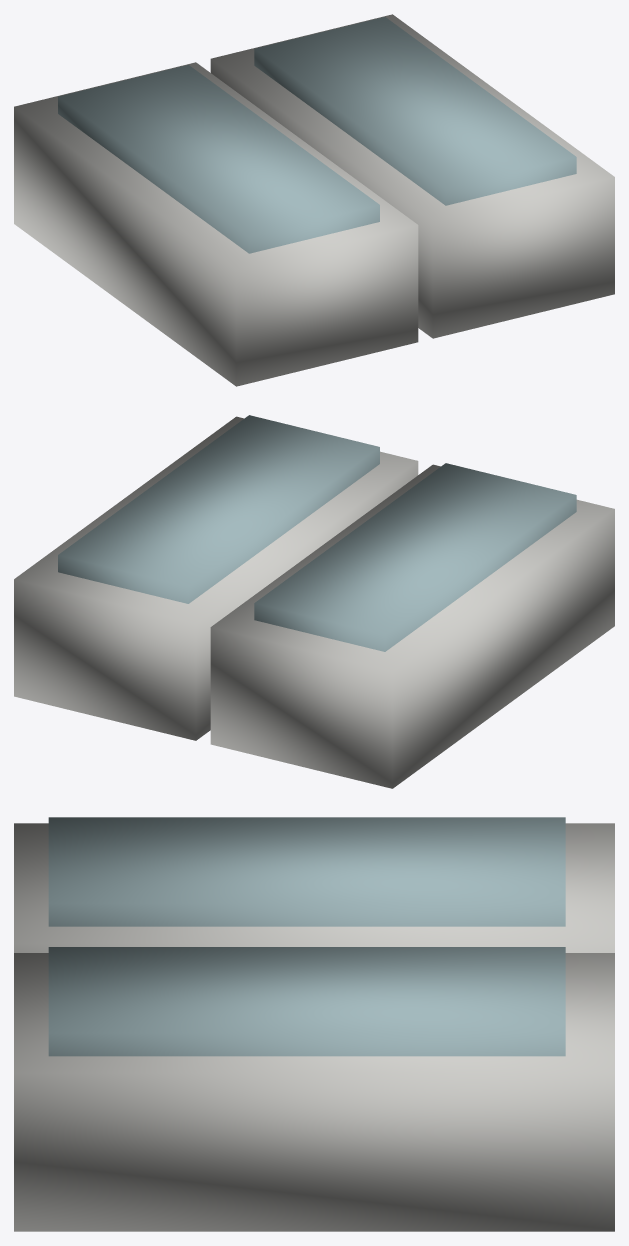
File: bathtub__cluster.glb
3 views of the same model, one above another, from view 1: azimuth 30°, elevation 25°; view 2: azimuth 150°, elevation 25°; view 3: azimuth 270°, elevation 25° (orthographic). The views are drawn at different scales.
Parts seen in each view (by area): view 1: world; view 2: world; view 3: world.
Boxes of the visible parts, x1,y1,x2,y2 form: world: (14,14,614,386); world: (14,415,614,788); world: (14,817,614,1231).
Size of the model in its own units: 1.62 by 0.55 by 1.65.
